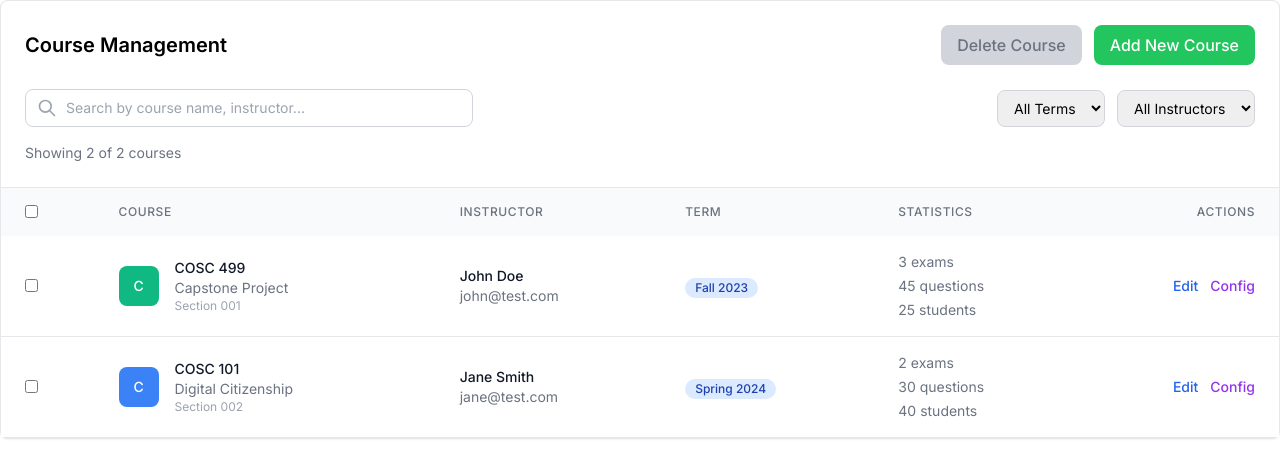
it: CourseTable › handles search functionality
The width and height of the screenshot is (1280, 456).
Type "COSC 499" into the field with placeholder "Search by course name, instructor..." at (249, 108), box [25,89,473,127]
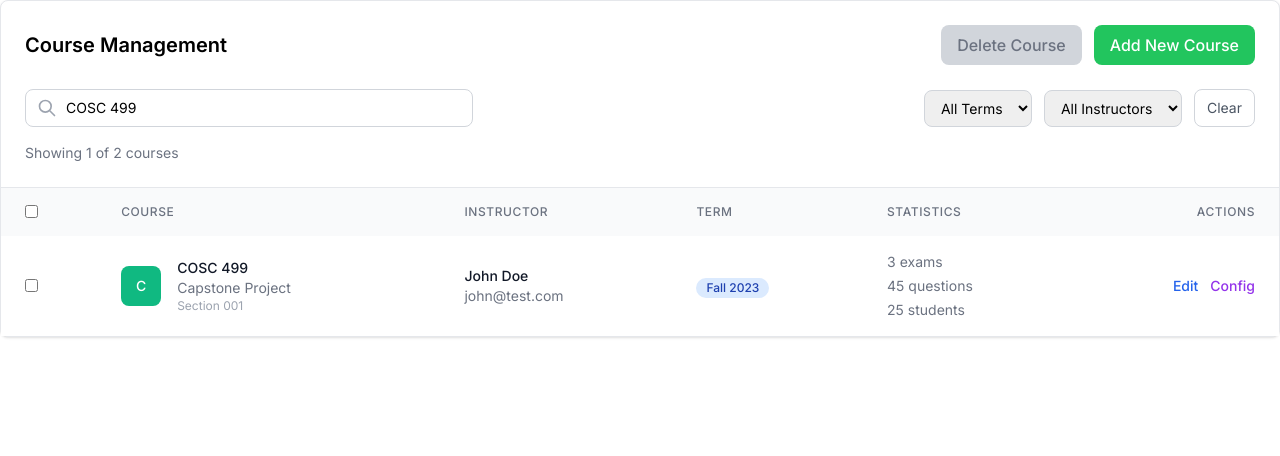
Expected: the text "COSC 499" is shown, [177,259,248,276]
Now the text "COSC 101" is gone
